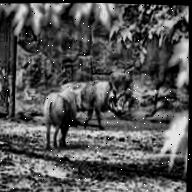boar: (31, 74, 99, 147)
